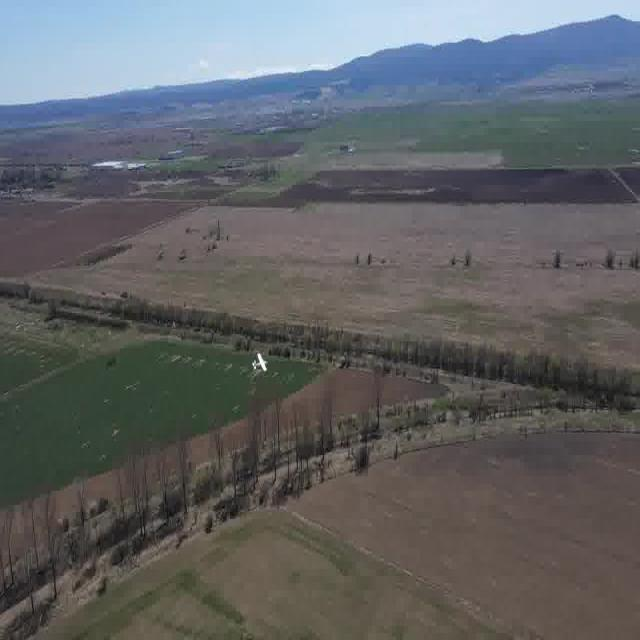iha: (247, 348, 272, 380)
